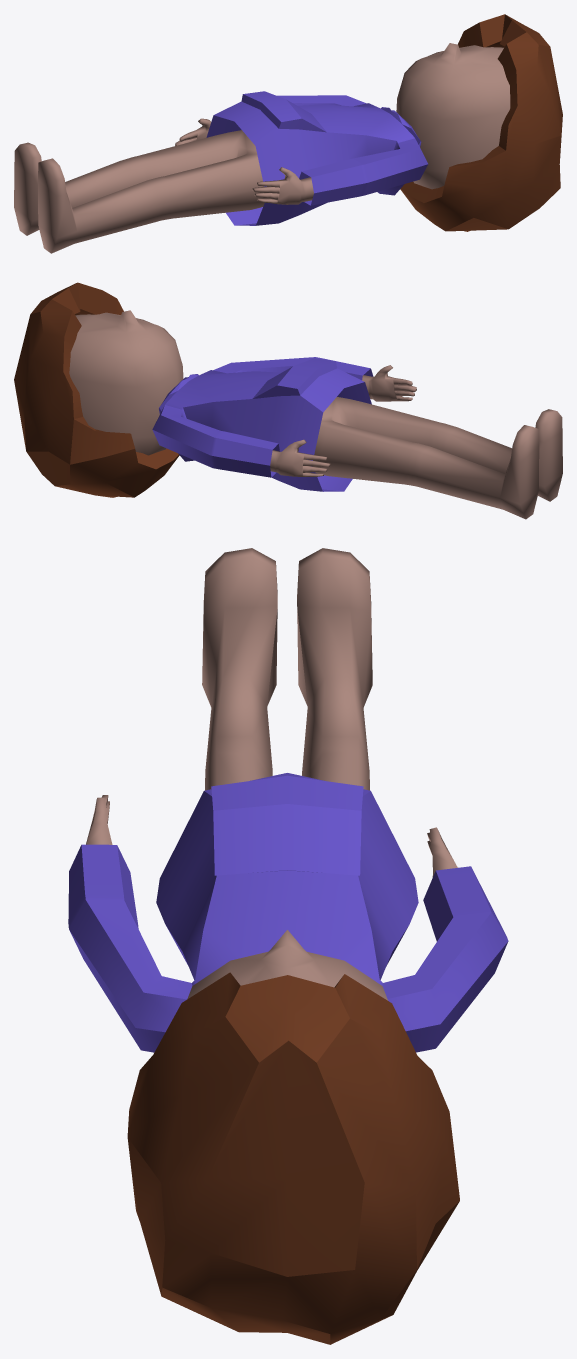
Rendered from Body.fbx.
3 views of the same model, one above another, from view 1: azimuth 30°, elevation 25°; view 2: azimuth 150°, elevation 25°; view 3: azimuth 270°, elevation 25° (orthographic). The views are drawn at different scales.
Parts seen in each view (by area): view 1: pelo.003; view 2: pelo.003; view 3: pelo.003.
Part boxes in pixels (<box>): pelo.003: <box>14,14,562,253</box>; pelo.003: <box>14,282,562,519</box>; pelo.003: <box>68,548,508,1344</box>.
Bounding box in the file's own units: 170 × 63.74 × 63.78.
